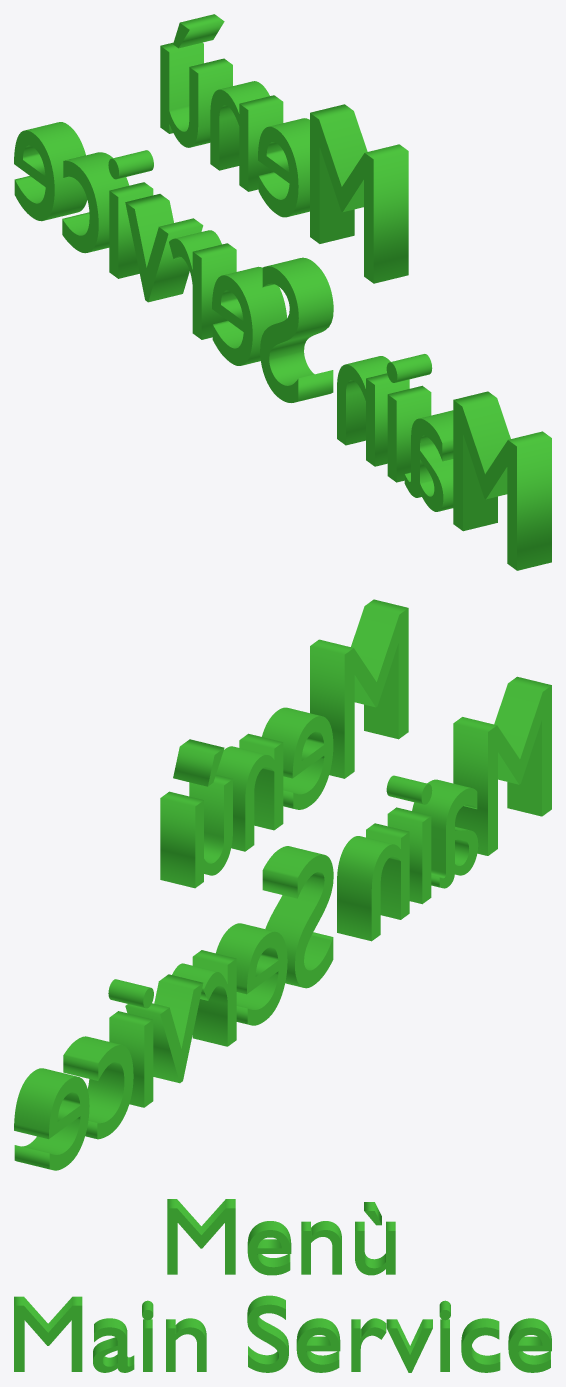
File: NewWebMenuGoMain.gltf
3 views of the same model, one above another, from view 1: azimuth 30°, elevation 25°; view 2: azimuth 150°, elevation 25°; view 3: azimuth 270°, elevation 25° (orthographic). The views are drawn at different scales.
Parts seen in each view (by area): view 1: MenuMain; view 2: MenuMain; view 3: MenuMain.
Boxes of the visible parts, bbox=[...] form: MenuMain: bbox=[14, 14, 551, 570]; MenuMain: bbox=[14, 599, 551, 1170]; MenuMain: bbox=[14, 1199, 551, 1372].
Bounding box in the file's own units: 0.0496 × 0.4193 × 1.24.
